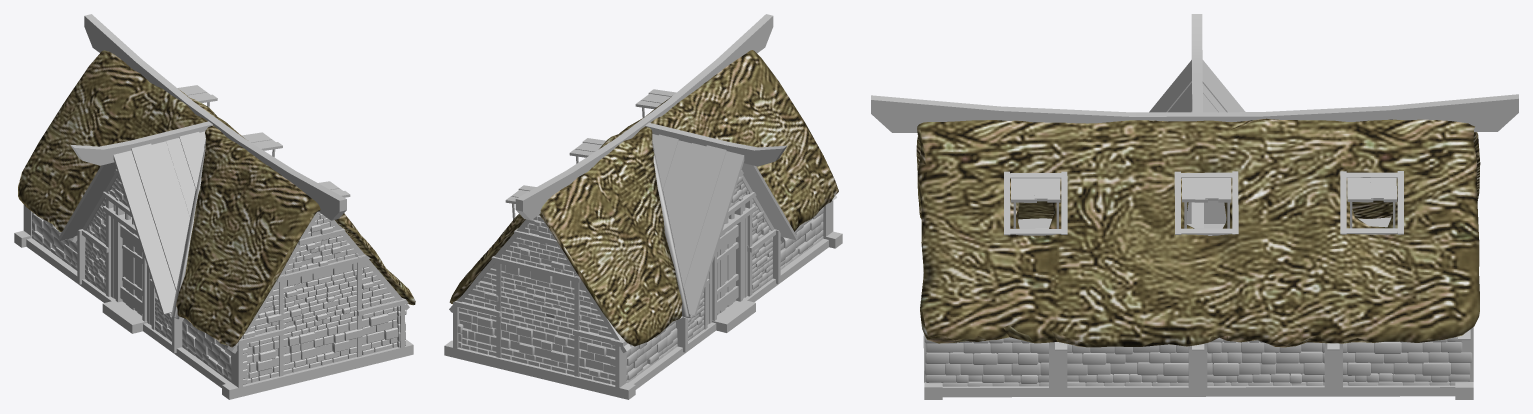
File: lowpoly_viking_house_009.fbx
3 renders of one model, left to right at view 1: azimuth 30°, elevation 25°; view 2: azimuth 150°, elevation 25°; view 3: azimuth 270°, elevation 25°, orthographic. The views are drawn at different scales.
Visible parts, largest first — view 1: Plane.018, Wall.093, Cube.3092, Cube.3139, Cube.3136, Cube.3078, Cube.3021, Cube.3140, Cube.3063, Cube.3135, Cube.3138, Cube.3132 (+11 smaller); view 2: Plane.018, Wall.093, Cube.3092, Cube.3138, Cube.3078, Cube.3137, Cube.3009, Cube.3063, Cube.3140, Cube.3134, Cube.3139, Cube.3003 (+12 smaller); view 3: Plane.018, Wall.093, Cube.3092, Cube.2993, Cube.3153, Cube.3156, Cube.3167, Cube.3063, Cube.3058, Cube.3059, Cube.3057, Cube.3140.
Part boxes in pixels (box(x1,y1,x2,y2)): Plane.018: box(18, 50, 415, 347); Wall.093: box(32, 176, 406, 384); Cube.3092: box(84, 14, 346, 220); Cube.3139: box(113, 150, 175, 314); Cube.3136: box(131, 143, 184, 290); Cube.3078: box(26, 238, 230, 387); Cube.3021: box(222, 339, 413, 399); Cube.3140: box(120, 225, 142, 315); Cube.3063: box(70, 121, 212, 165); Cube.3135: box(151, 141, 189, 247); Cube.3138: box(58, 162, 116, 240); Cube.3132: box(166, 138, 195, 217); Plane.018: box(449, 50, 838, 346); Wall.093: box(457, 176, 823, 384); Cube.3092: box(515, 14, 773, 220); Cube.3138: box(684, 151, 744, 315); Cube.3078: box(628, 238, 828, 389); Cube.3137: box(675, 145, 726, 287); Cube.3009: box(444, 340, 635, 399); Cube.3063: box(645, 122, 787, 166); Cube.3140: box(717, 225, 738, 315); Cube.3134: box(668, 143, 706, 246); Cube.3139: box(741, 163, 797, 240); Cube.3003: box(647, 128, 690, 318); Plane.018: box(916, 118, 1480, 347); Wall.093: box(924, 336, 1472, 386); Cube.3092: box(871, 94, 1518, 132); Cube.2993: box(942, 385, 1455, 397); Cube.3153: box(1340, 171, 1403, 234); Cube.3156: box(1174, 171, 1238, 235); Cube.3167: box(1004, 171, 1067, 235); Cube.3063: box(1191, 14, 1202, 112); Cube.3058: box(1188, 343, 1207, 393); Cube.3059: box(1324, 343, 1342, 393); Cube.3057: box(1049, 342, 1067, 393); Cube.3140: box(1187, 201, 1226, 223).
Size of the model in its own units: 3.55 by 2.71 by 6.48.
